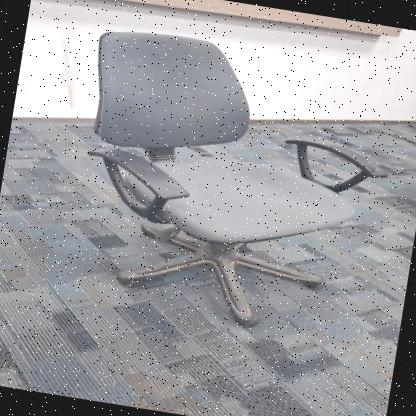chair: (48, 13, 411, 350)
